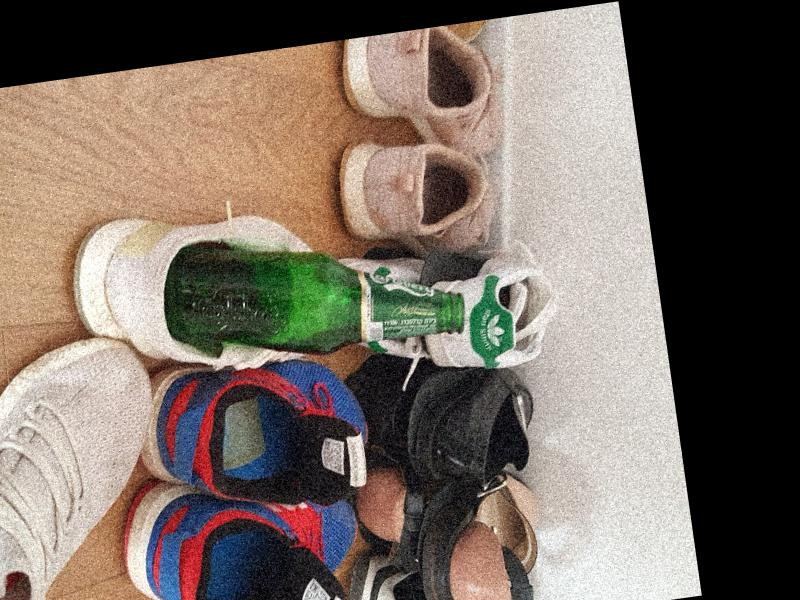Beer: (157, 211, 465, 376)
